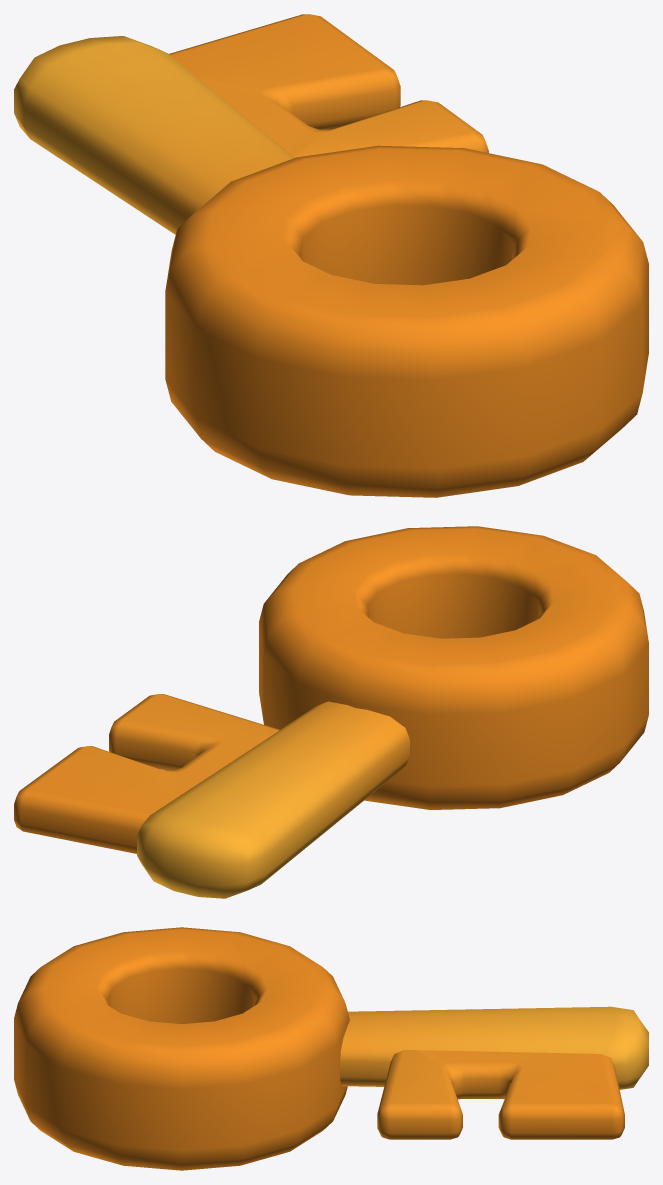
The model's file is Key.fbx.
3 views of the same model, one above another, from view 1: azimuth 30°, elevation 25°; view 2: azimuth 150°, elevation 25°; view 3: azimuth 270°, elevation 25° (orthographic). The views are drawn at different scales.
Parts seen in each view (by area): view 1: Key; view 2: Key; view 3: Key.
Part boxes in pixels (x1,y1,x2,y2): Key: [14, 14, 648, 497]; Key: [14, 526, 648, 898]; Key: [14, 927, 648, 1170].
Bounding box in the file's own units: 0.3683 × 0.1415 × 0.6656.
1 material, 1 textured.
